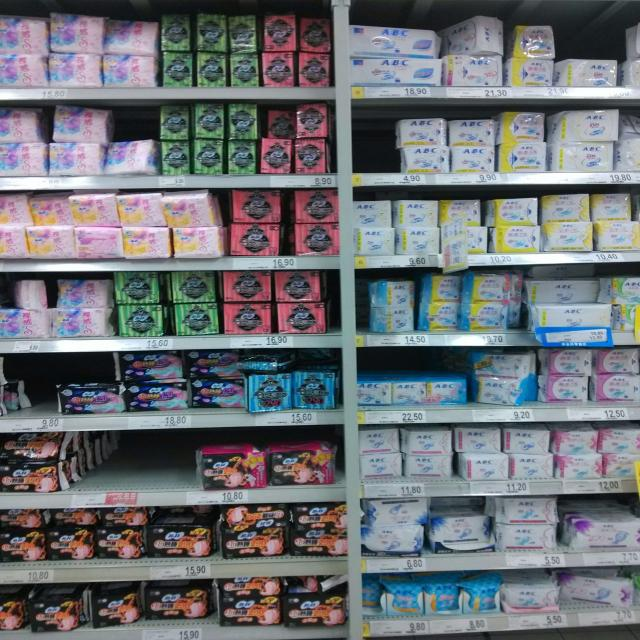void: (69, 432, 194, 494), (353, 99, 394, 174), (0, 354, 48, 417)
